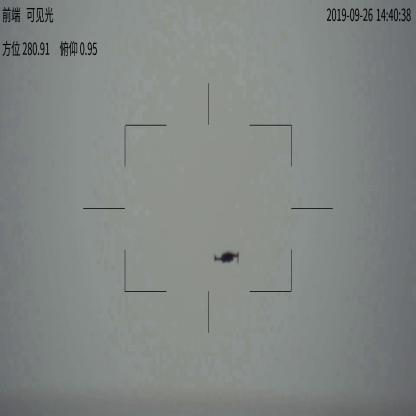uav: (211, 248, 244, 268)
